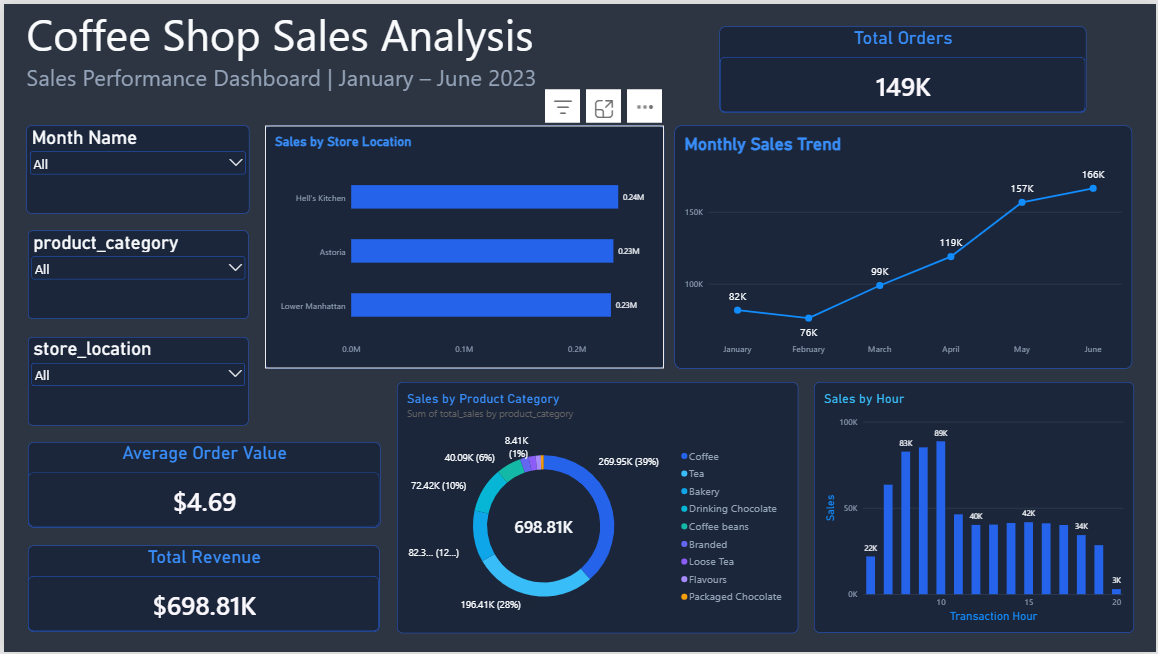

The dashboard page shown, as its layout file describes it:
{"tool":"powerbi","page":{"name":"Page 1","canvas":[1920,1080],"ordinal":0},"visuals":[{"type":"cardVisual","title":"Total Revenue","fields":{"Data":["Transactions.Total Revenue"]},"box":[40,902.5,586.3,144.3],"z":0},{"type":"cardVisual","title":"Average Order Value","fields":{"Data":["Transactions.average order value"]},"box":[40,730,587.5,142.5],"z":1000},{"type":"slicer","fields":{"Values":["Transactions.month name"]},"box":[37.3,201.8,371,146.6],"z":2000},{"type":"cardVisual","title":"Total Orders","fields":{"Data":["Transactions.total_orders"]},"box":[1192.5,37.5,611.5,144.3],"z":3000},{"type":"slicer","fields":{"Values":["Transactions.product_category"]},"box":[39.1,377.7,367.6,147.5],"z":4000},{"type":"lineChart","title":"Monthly Sales Trend","fields":{"Category":["Transactions.month name"],"Y":["Sum(Transactions.total_sales)"]},"box":[1117.5,203.3,762.5,405],"z":5000},{"type":"slicer","fields":{"Values":["Transactions.store_location"]},"box":[40,554.6,367.3,147.3],"z":6000},{"type":"clusteredBarChart","title":"Sales by Store Location","fields":{"Category":["Transactions.store_location"],"Y":["Sum(Transactions.total_sales)"]},"box":[435,202.5,665,405],"z":7000},{"type":"donutChart","title":"Sales by Product Category","fields":{"Category":["Transactions.product_category"],"Y":["Sum(Transactions.total_sales)"]},"box":[654.6,630,668.3,418.3],"z":8000},{"type":"columnChart","title":"Sales by Hour","fields":{"Category":["Transactions.Transaction Hour"],"Y":["Sum(Transactions.total_sales)"]},"box":[1350,630,533,418],"z":9000},{"type":"textbox","box":[37.5,0,952.5,182.5],"z":10000}]}

Visuals, with their boxes in screenshot pixels (x1, y1, x2, y2), scaled from the page's 1920x1080 canvas onto the 1158x654 screenshot:
"Total Revenue" cardVisual: 24,547,378,634
"Average Order Value" cardVisual: 24,442,378,528
slicer - Transactions.month name: 22,122,246,211
"Total Orders" cardVisual: 719,23,1088,110
slicer - Transactions.product_category: 24,229,245,318
"Monthly Sales Trend" lineChart: 674,123,1134,368
slicer - Transactions.store_location: 24,336,246,425
"Sales by Store Location" clusteredBarChart: 262,123,663,368
"Sales by Product Category" donutChart: 395,382,798,635
"Sales by Hour" columnChart: 814,382,1136,635
textbox: 23,0,597,111
